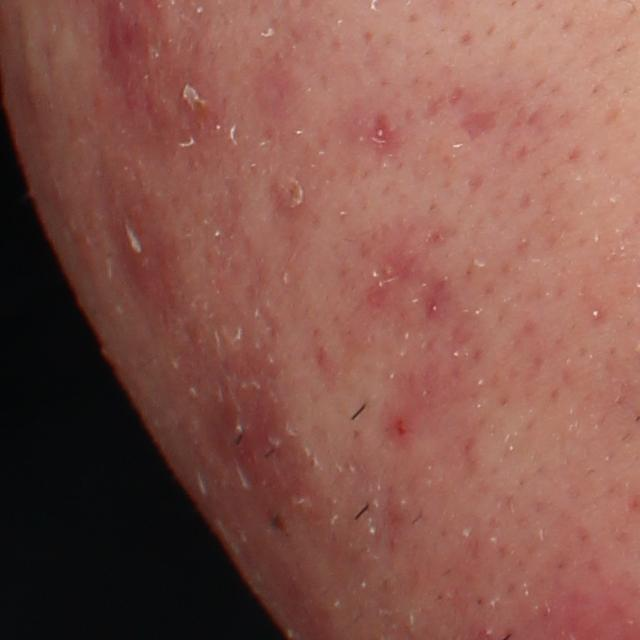atrophic_scar: (454, 107, 503, 151)
papule: (119, 216, 161, 301), (268, 174, 322, 217), (378, 408, 426, 455)
